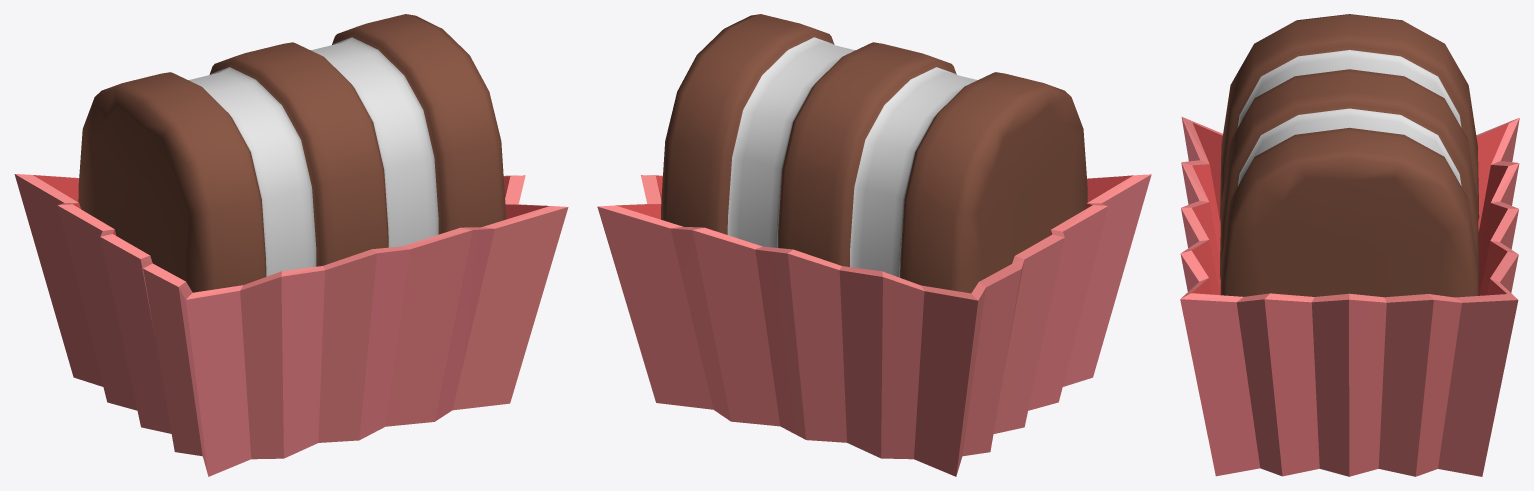
Rendered from chocolate_1.fbx.
3 renders of one model, left to right at view 1: azimuth 30°, elevation 25°; view 2: azimuth 150°, elevation 25°; view 3: azimuth 270°, elevation 25°, orthographic.
Visible parts, largest first — view 1: chocolate_1; view 2: chocolate_1; view 3: chocolate_1.
Boxes of the visible parts, x1,y1,x2,y2 form: chocolate_1: [14, 14, 568, 476]; chocolate_1: [597, 14, 1151, 476]; chocolate_1: [1180, 14, 1519, 476].
Bounding box in the file's own units: 92.51 × 75.88 × 72.4.
